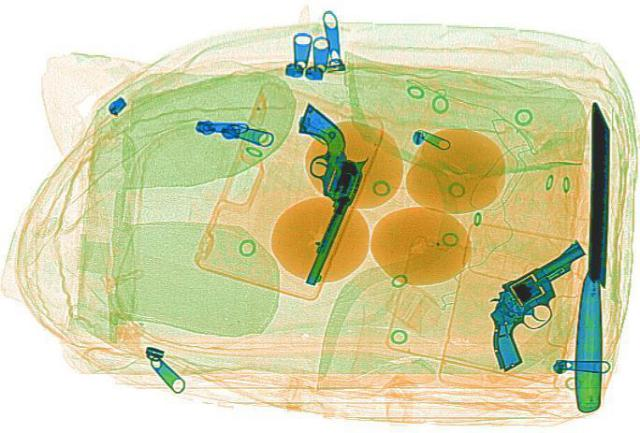Gun: (432, 247, 638, 369), (248, 101, 384, 284)
Knife: (571, 101, 609, 410)
